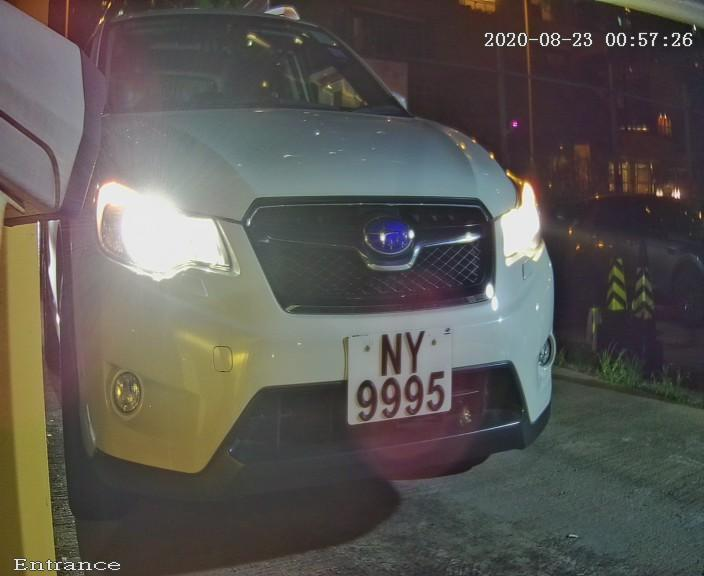License Plate: (331, 309, 466, 443)
